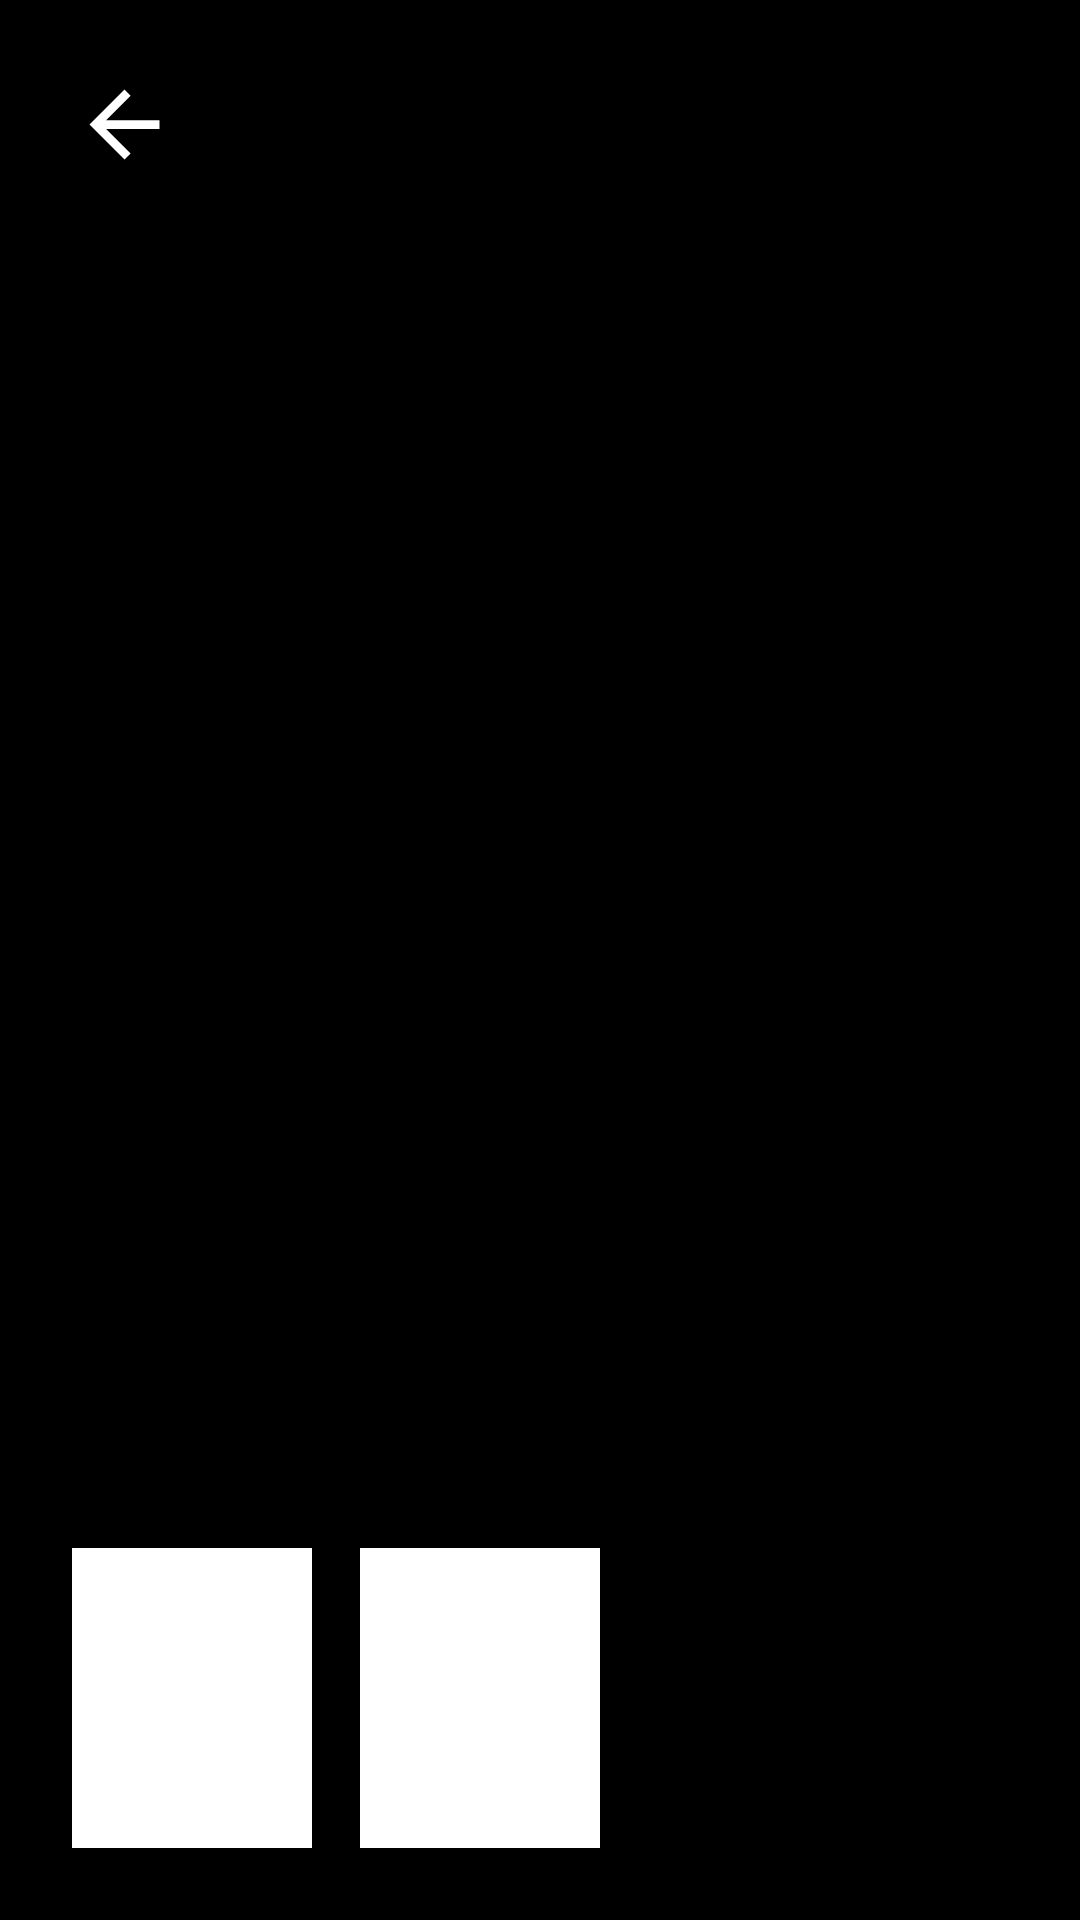

Point at icon controls on the screen. Image size 1080 × 1920, points as (x,y).
Back to home: (124,124)
